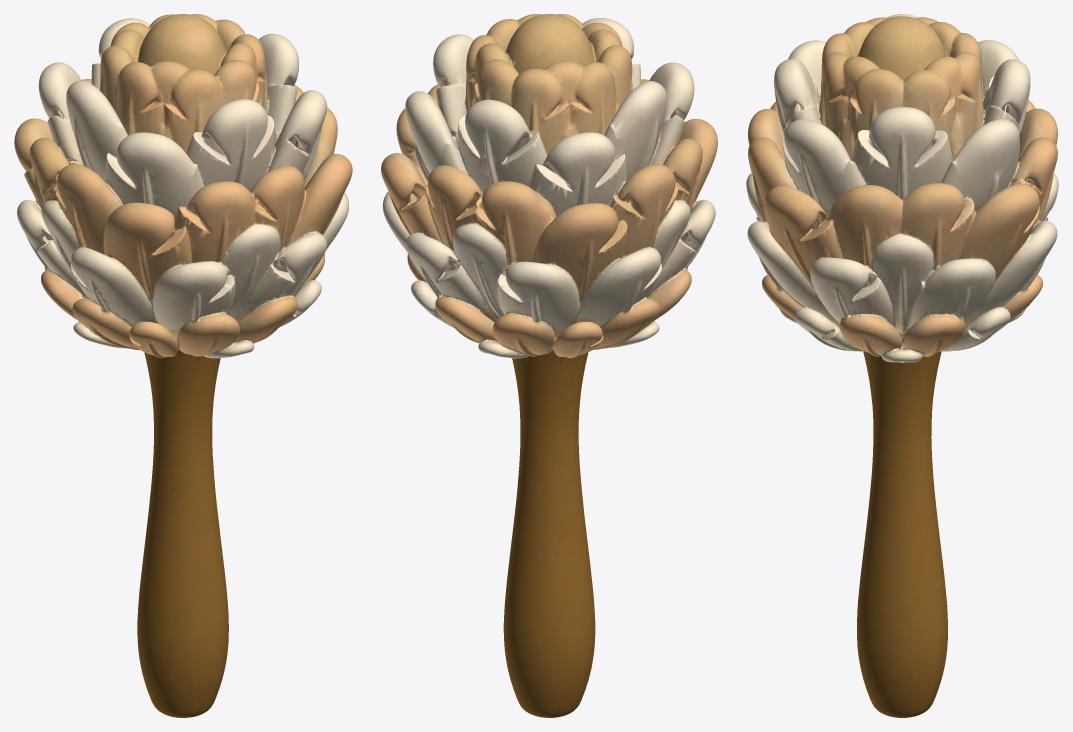
File: feather-duster.glb
3 views of the same model, side by side, from view 1: azimuth 30°, elevation 25°; view 2: azimuth 150°, elevation 25°; view 3: azimuth 270°, elevation 25° (orthographic).
Bounding box in the file's own units: 0.7765 × 1.9 × 0.7784.
1 material, 1 textured.
